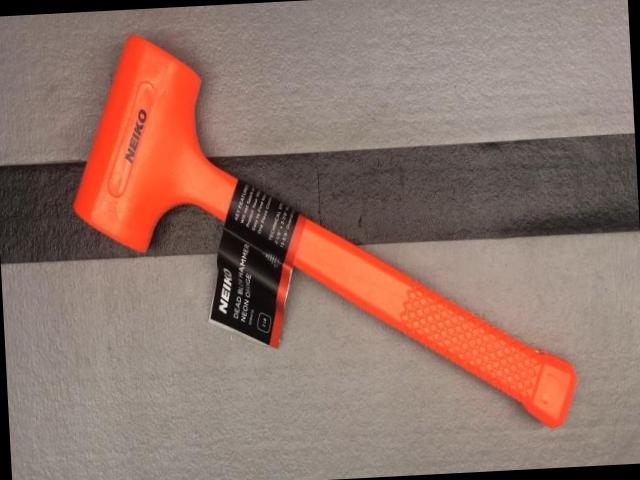hammer: (57, 12, 581, 454)
